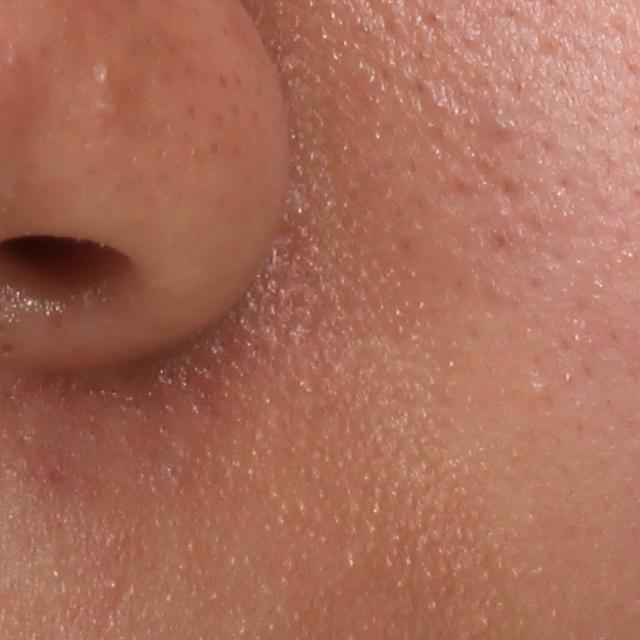comedo: (88, 65, 113, 92), (105, 575, 122, 592)
